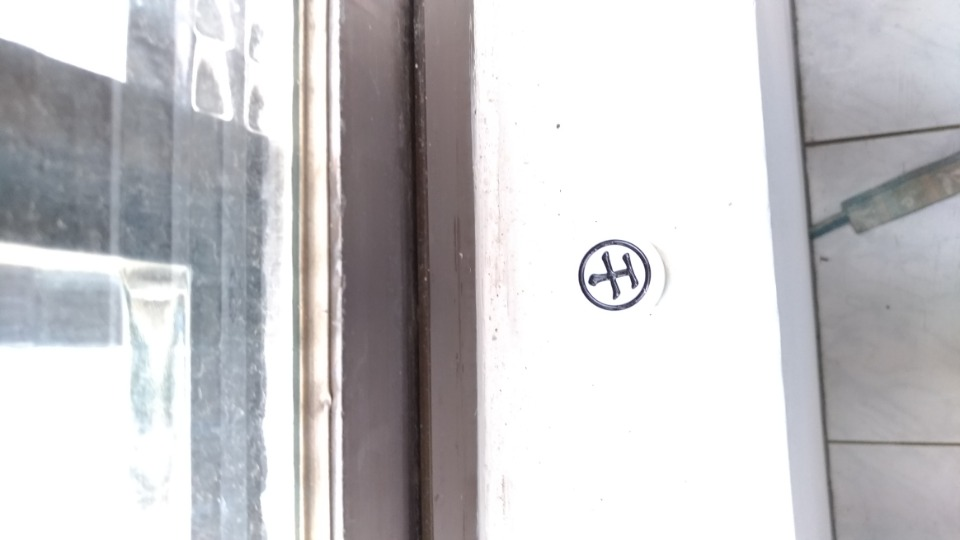b-advisor: (567, 235, 679, 320)
